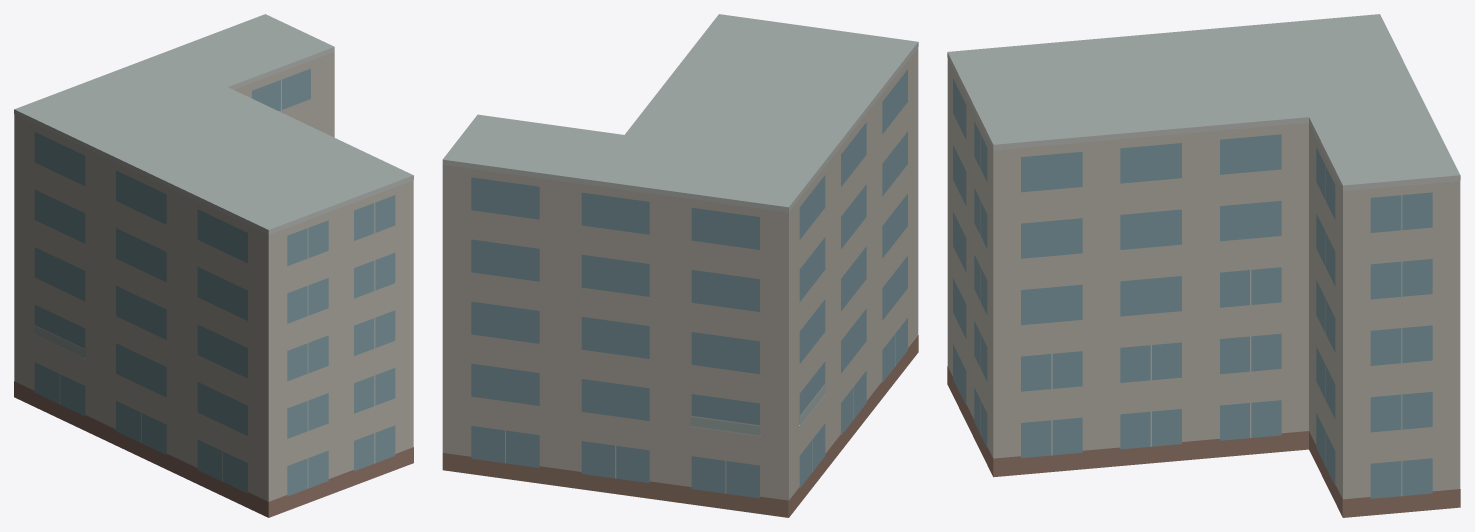
Rendered from survey-upis-32699298.glb.
The picture shows the model from 3 angles, left to right: view 1: azimuth 30°, elevation 25°; view 2: azimuth 150°, elevation 25°; view 3: azimuth 270°, elevation 25°; orthographic projection. The views are drawn at different scales.
Parts seen in each view (by area): view 1: survey-upis-32699298.tmp; view 2: survey-upis-32699298.tmp; view 3: survey-upis-32699298.tmp.
Part boxes in pixels (<box>): survey-upis-32699298.tmp: <box>14,14,413,517</box>; survey-upis-32699298.tmp: <box>442,14,918,517</box>; survey-upis-32699298.tmp: <box>947,14,1460,517</box>.
Bounding box in the file's own units: 15.95 × 14.4 × 20.16.
